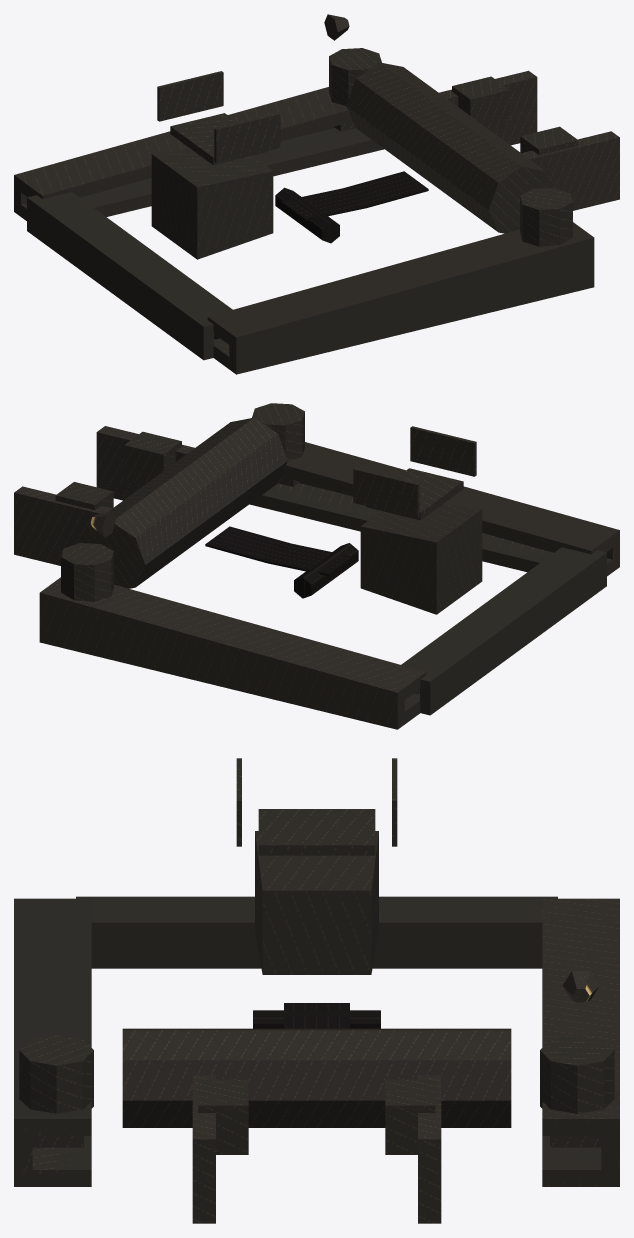
File: extractor_lod2.glb
The picture shows the model from 3 angles, top to bottom: view 1: azimuth 30°, elevation 25°; view 2: azimuth 150°, elevation 25°; view 3: azimuth 270°, elevation 25°; orthographic projection. The views are drawn at different scales.
Visible parts, largest first — view 1: LOD2_extractor, LOD2_head, LOD2_belt; view 2: LOD2_extractor, LOD2_head, LOD2_belt, LOD2_lamp; view 3: LOD2_extractor, LOD2_head, LOD2_belt, LOD2_lamp.
Part boxes in pixels (x1,y1,x2,y2): LOD2_extractor: [14, 71, 594, 374]; LOD2_head: [329, 48, 619, 246]; LOD2_belt: [275, 171, 428, 243]; LOD2_extractor: [39, 426, 619, 729]; LOD2_head: [14, 403, 304, 601]; LOD2_belt: [205, 526, 358, 598]; LOD2_lamp: [90, 511, 115, 537]; LOD2_extractor: [14, 758, 619, 1186]; LOD2_head: [19, 1028, 614, 1223]; LOD2_belt: [253, 1003, 380, 1028]; LOD2_lamp: [562, 971, 599, 1002].
Bounding box in the file's own units: 1.86 × 0.658 × 1.56.
2 materials, 2 textured.
